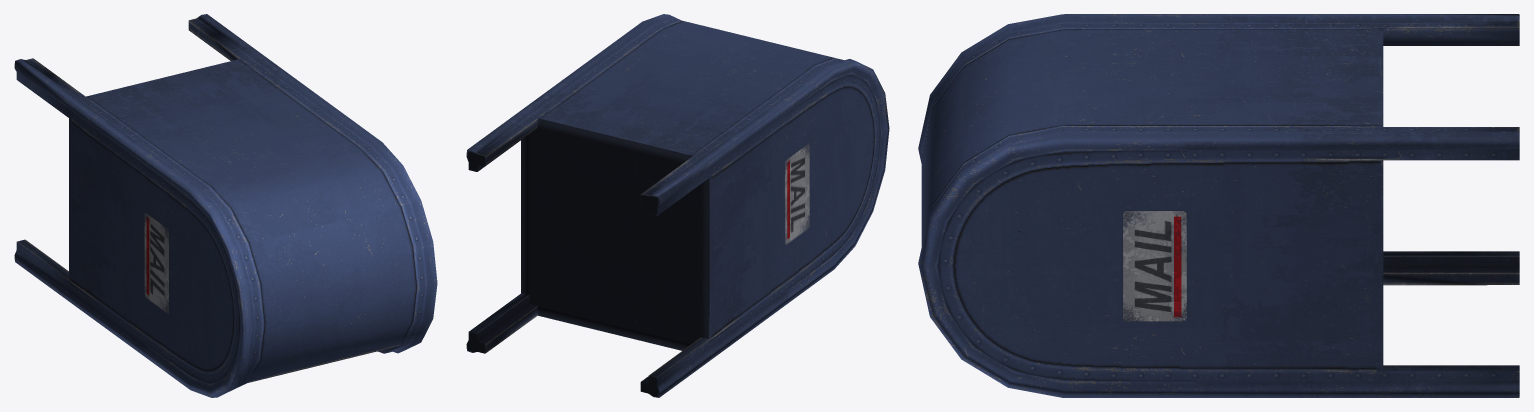
Rendered from mailbox.fbx.
The picture shows the model from 3 angles, left to right: view 1: azimuth 30°, elevation 25°; view 2: azimuth 150°, elevation 25°; view 3: azimuth 270°, elevation 25°; orthographic projection. The views are drawn at different scales.
Visible parts, largest first — view 1: mailbox; view 2: mailbox; view 3: mailbox.
Part boxes in pixels (bbox=[...]): mailbox: bbox=[14, 14, 437, 397]; mailbox: bbox=[466, 14, 889, 397]; mailbox: bbox=[918, 14, 1519, 397].
Bounding box in the file's own units: 0.734 × 0.752 × 1.52.
